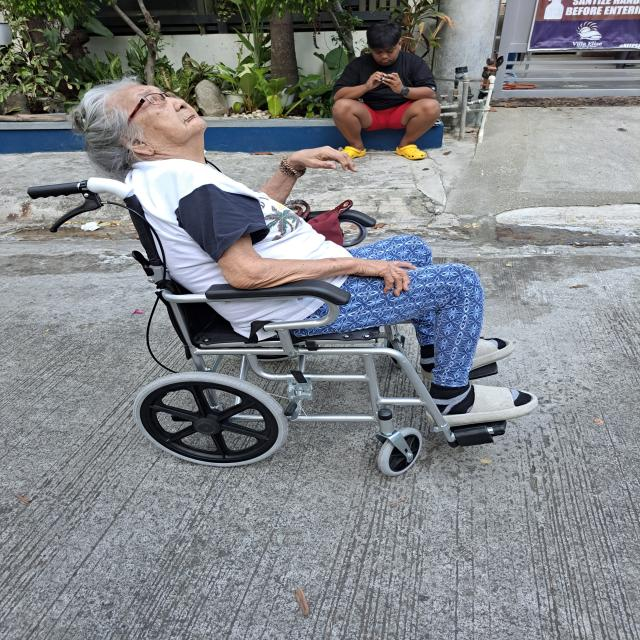wheelchairs: (21, 166, 520, 480)
